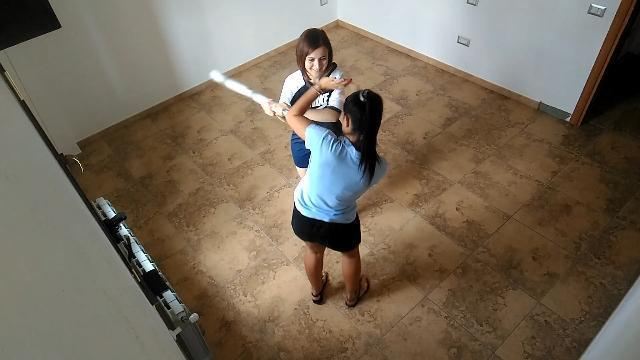violence: (208, 19, 394, 310)
